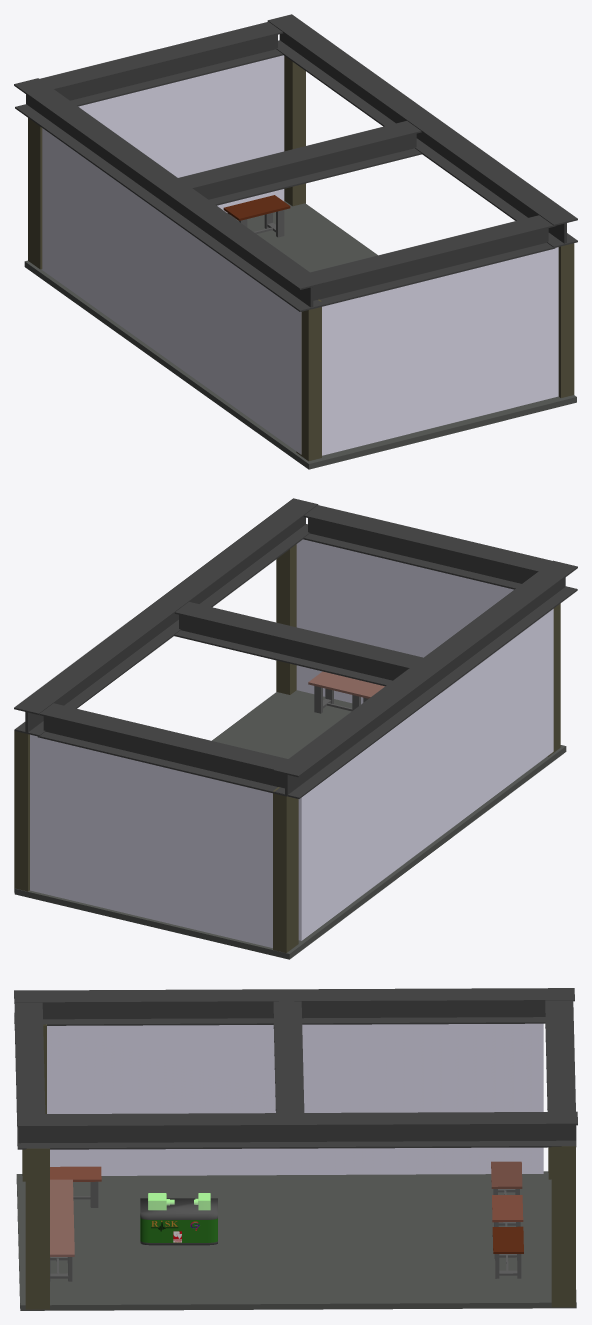
Rendered from Lab_Torsion4.gltf.
3 renders of one model, top to bottom at view 1: azimuth 30°, elevation 25°; view 2: azimuth 150°, elevation 25°; view 3: azimuth 270°, elevation 25°, orthographic.
Parts seen in each view (by area): view 1: Vigas_Amarre, Cubo, Cubo.003, Cubo.002, Cubo.001, Cubo.006, Cubo.007, Cubo.004, Cubo.005, Mesa.Lab3; view 2: Vigas_Amarre, Cubo.002, Cubo, Cubo.003, Cubo.001, Cubo.005, Cubo.004, Cubo.007, mesa5, Cubo.006; view 3: Cubo.001, Cubo, Vigas_Amarre, Cubo.004, Cubo.007, Plane.003, Mesa.Lab3, mesa2, mesa5, Mesa.Lab1, Mesa.Lab2, mesa4 (+1 smaller).
Boxes of the visible parts, x1=… form: Vigas_Amarre: x1=14, y1=14, x2=577, y2=311; Cubo: x1=42, y1=128, x2=301, y2=454; Cubo.003: x1=322, y1=247, x2=558, y2=455; Cubo.002: x1=78, y1=55, x2=284, y2=212; Cubo.001: x1=24, y1=201, x2=576, y2=469; Cubo.006: x1=296, y1=299, x2=321, y2=461; Cubo.007: x1=558, y1=243, x2=574, y2=397; Cubo.004: x1=284, y1=56, x2=305, y2=206; Cubo.005: x1=28, y1=118, x2=42, y2=269; Mesa.Lab3: x1=223, y1=195, x2=290, y2=237; Vigas_Amarre: x1=14, y1=498, x2=577, y2=798; Cubo.002: x1=30, y1=734, x2=272, y2=947; Cubo: x1=298, y1=609, x2=553, y2=940; Cubo.003: x1=296, y1=539, x2=513, y2=704; Cubo.001: x1=14, y1=690, x2=566, y2=959; Cubo.005: x1=273, y1=787, x2=298, y2=952; Cubo.004: x1=14, y1=730, x2=29, y2=892; Cubo.007: x1=276, y1=544, x2=296, y2=694; mesa5: x1=308, y1=671, x2=374, y2=713; Cubo.006: x1=547, y1=603, x2=560, y2=756; Cubo.001: x1=16, y1=1171, x2=576, y2=1310; Cubo: x1=47, y1=1023, x2=543, y2=1175; Vigas_Amarre: x1=14, y1=988, x2=577, y2=1149; Cubo.004: x1=551, y1=1146, x2=575, y2=1307; Cubo.007: x1=25, y1=1148, x2=49, y2=1309; Plane.003: x1=140, y1=1198, x2=217, y2=1245; Mesa.Lab3: x1=492, y1=1226, x2=523, y2=1278; mesa2: x1=50, y1=1166, x2=101, y2=1207; mesa5: x1=50, y1=1229, x2=74, y2=1281; Mesa.Lab1: x1=491, y1=1161, x2=522, y2=1194; Mesa.Lab2: x1=492, y1=1195, x2=523, y2=1226; mesa4: x1=50, y1=1204, x2=74, y2=1229.
Bounding box in the file's own units: 10.57 × 6.55 × 18.15.
28 materials, 3 textured.
